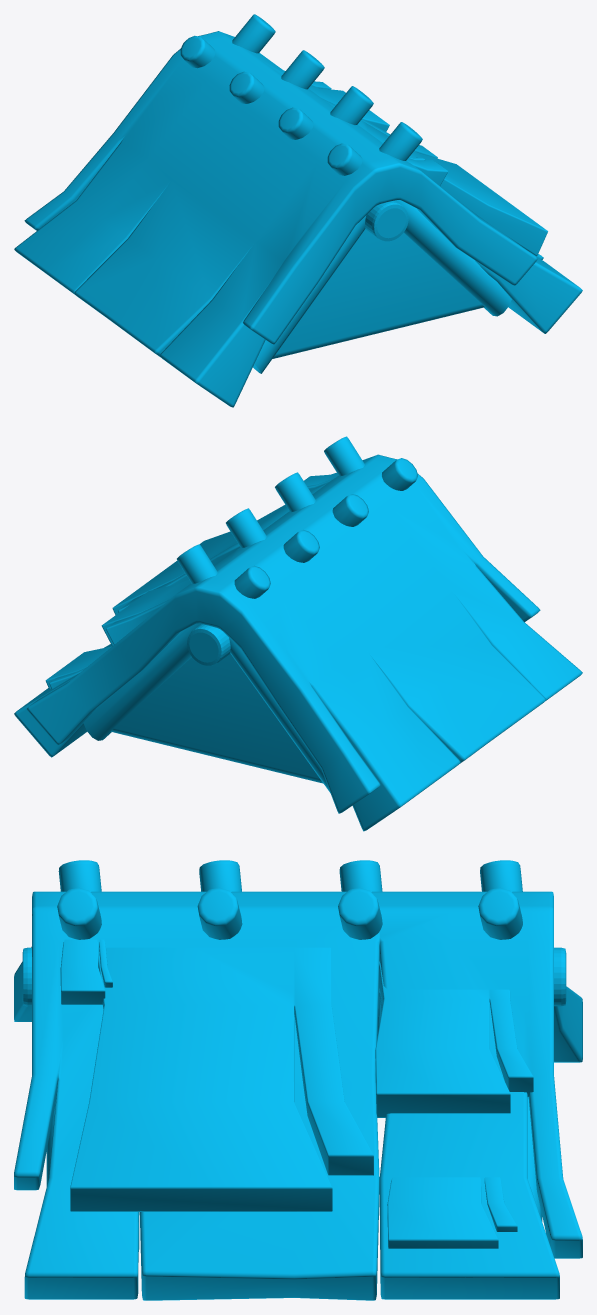
Rendered from SM_Clay_Roof_01.fbx.
The picture shows the model from 3 angles, top to bottom: view 1: azimuth 30°, elevation 25°; view 2: azimuth 150°, elevation 25°; view 3: azimuth 270°, elevation 25°; orthographic projection. The views are drawn at different scales.
Parts seen in each view (by area): view 1: SM_Clay_Roof_01; view 2: SM_Clay_Roof_01; view 3: SM_Clay_Roof_01.
Part boxes in pixels (x1,y1,x2,y2): SM_Clay_Roof_01: (14,14,582,407); SM_Clay_Roof_01: (14,436,582,831); SM_Clay_Roof_01: (14,860,582,1300).
Bounding box in the file's own units: 1.14 × 0.6422 × 1.01.
